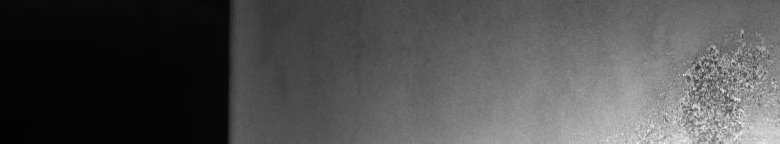hc: (645, 28, 776, 136)
